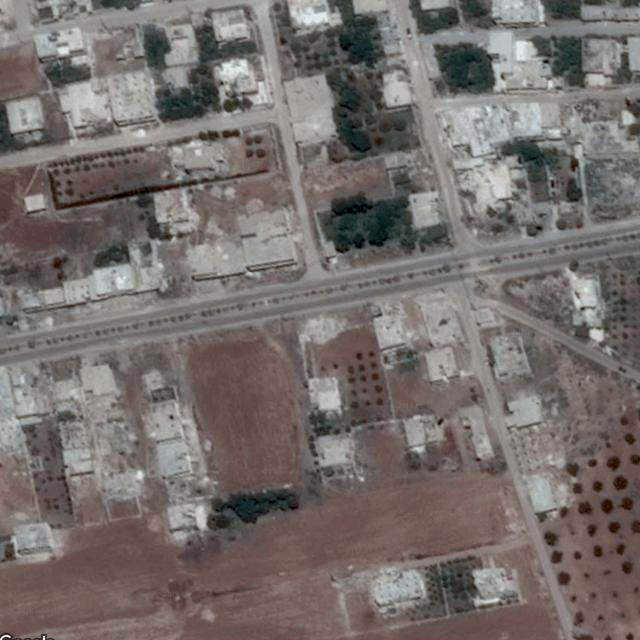damaged_building: (91, 420, 141, 501), (456, 160, 508, 210), (154, 188, 198, 235), (296, 312, 356, 345)
